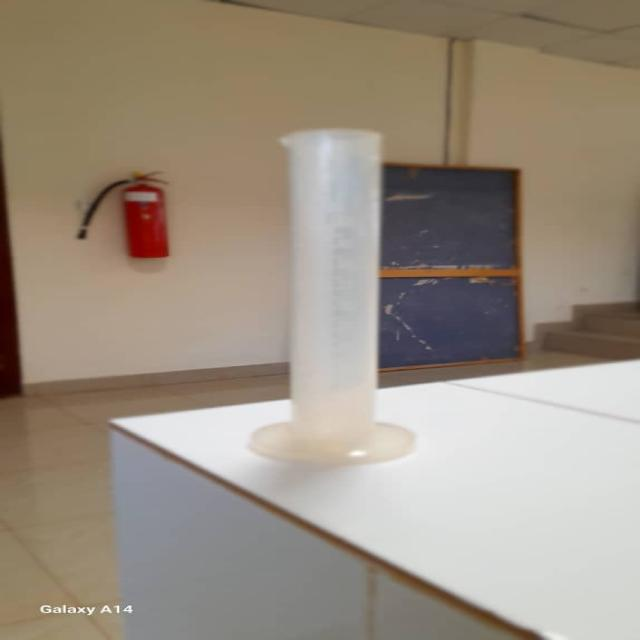Measuring Cylinder: (252, 125, 437, 469)
